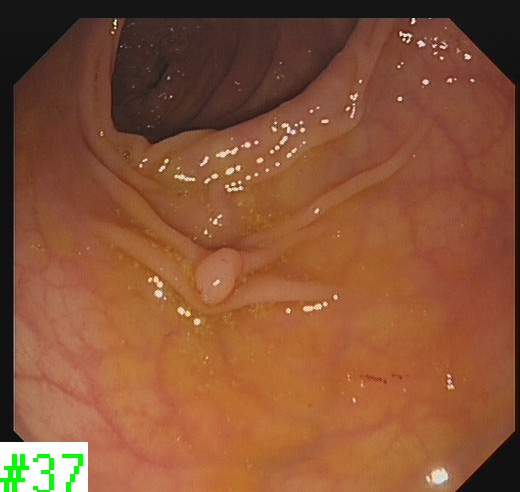adenoma: (191, 246, 244, 306)
